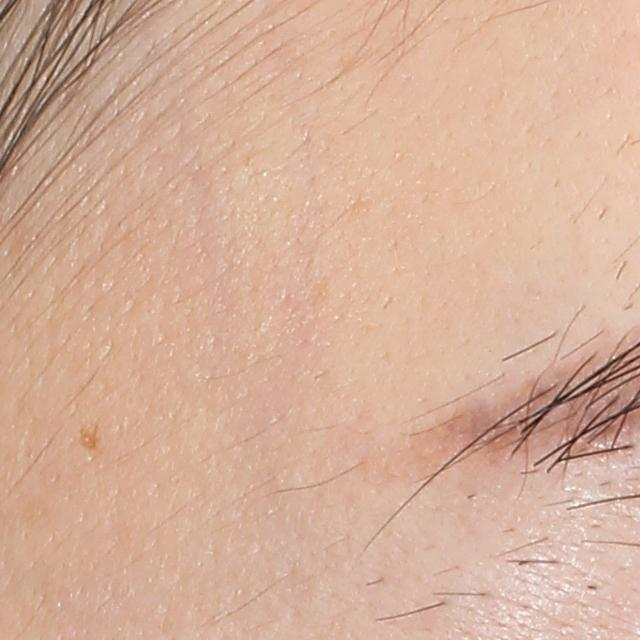melasma: (76, 420, 100, 451)
